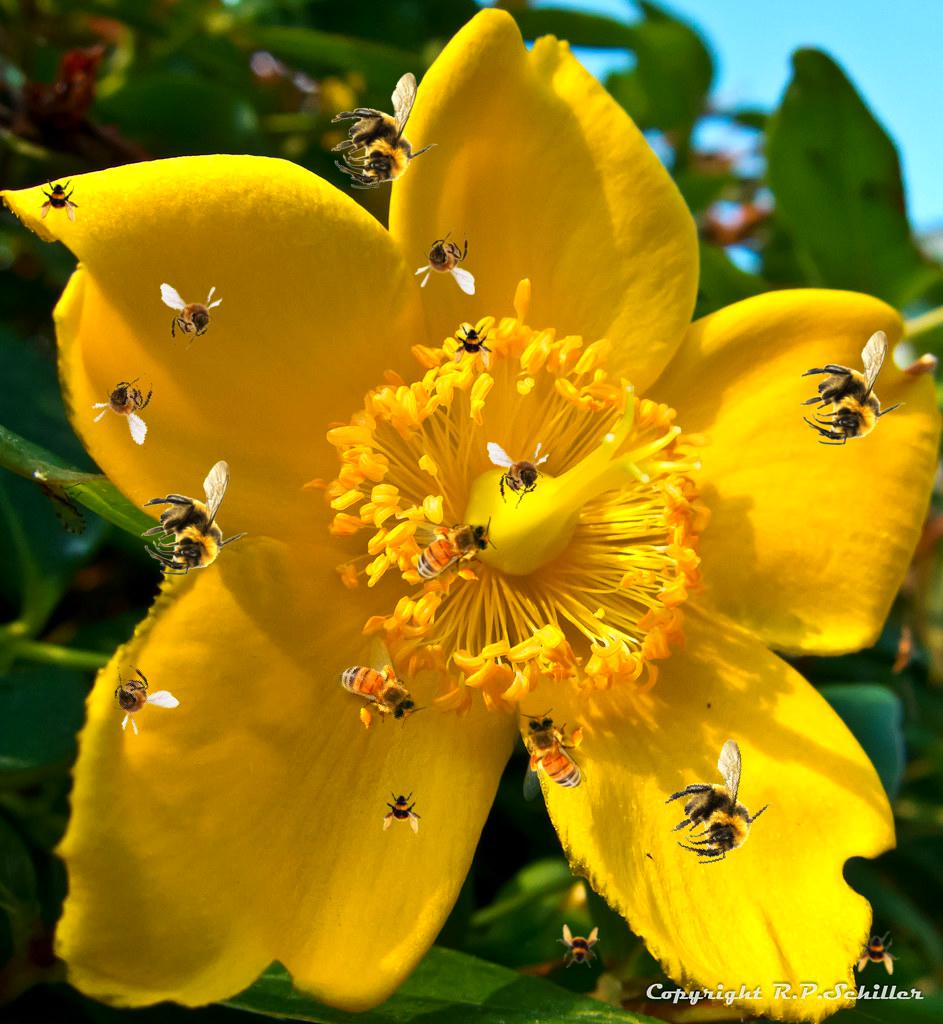Bee: (650, 732, 785, 871), (328, 71, 439, 190), (324, 632, 432, 747), (141, 460, 248, 575), (799, 330, 906, 445), (88, 652, 181, 746), (84, 360, 165, 446), (404, 516, 497, 584), (519, 708, 587, 801), (486, 434, 557, 512), (160, 278, 227, 354), (414, 225, 475, 295), (856, 931, 900, 975), (556, 924, 600, 968), (38, 179, 82, 223), (452, 324, 496, 368), (381, 790, 425, 834)
